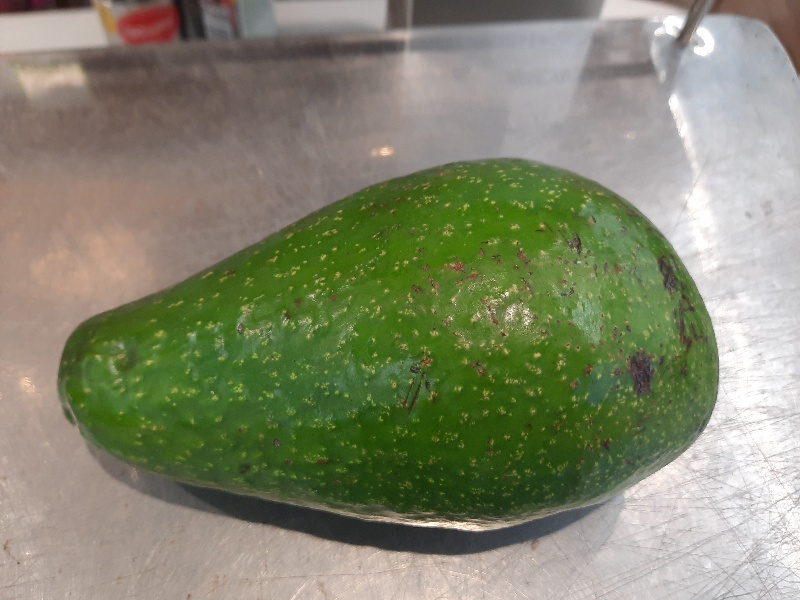fruit: (60, 154, 725, 540)
